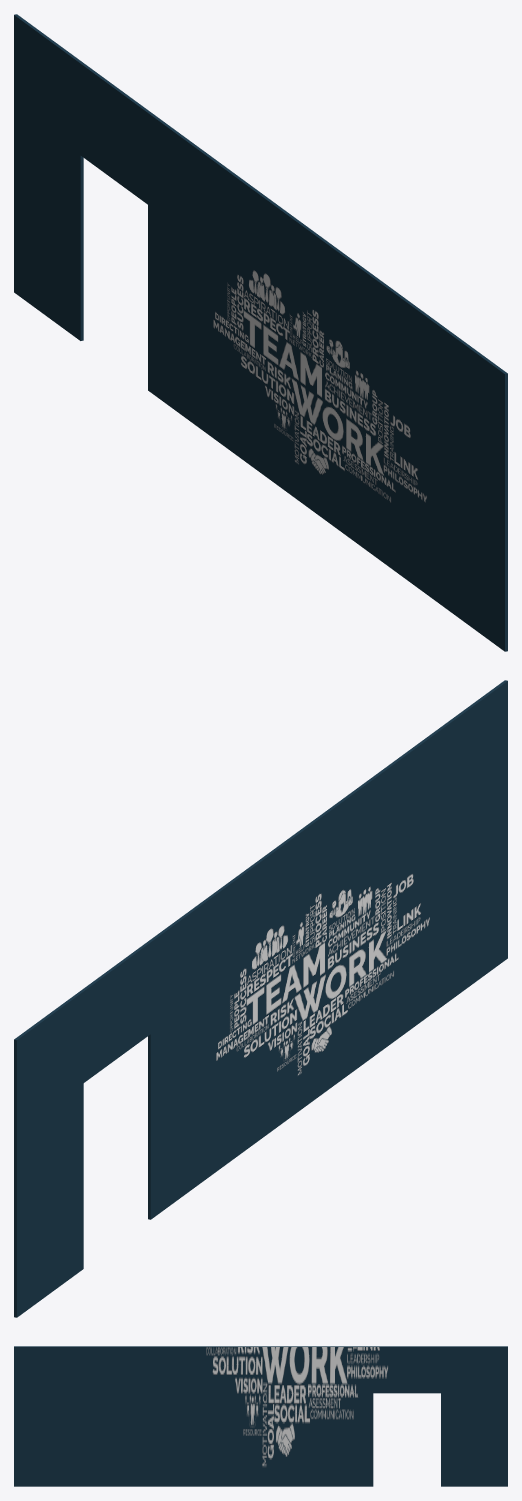
The model's file is Left Wall.fbx.
The picture shows the model from 3 angles, top to bottom: view 1: azimuth 30°, elevation 25°; view 2: azimuth 150°, elevation 25°; view 3: azimuth 270°, elevation 25°; orthographic projection. The views are drawn at different scales.
Visible parts, largest first — view 1: Left_Wall; view 2: Left_Wall; view 3: Left_Wall.
Boxes of the visible parts, box(x1,y1,x2,y2) form: Left_Wall: box(14, 14, 507, 651); Left_Wall: box(14, 680, 507, 1317); Left_Wall: box(14, 1346, 507, 1486).
Bounding box in the file's own units: 0.0386 × 3.48 × 11.15.
1 material, 1 textured.
